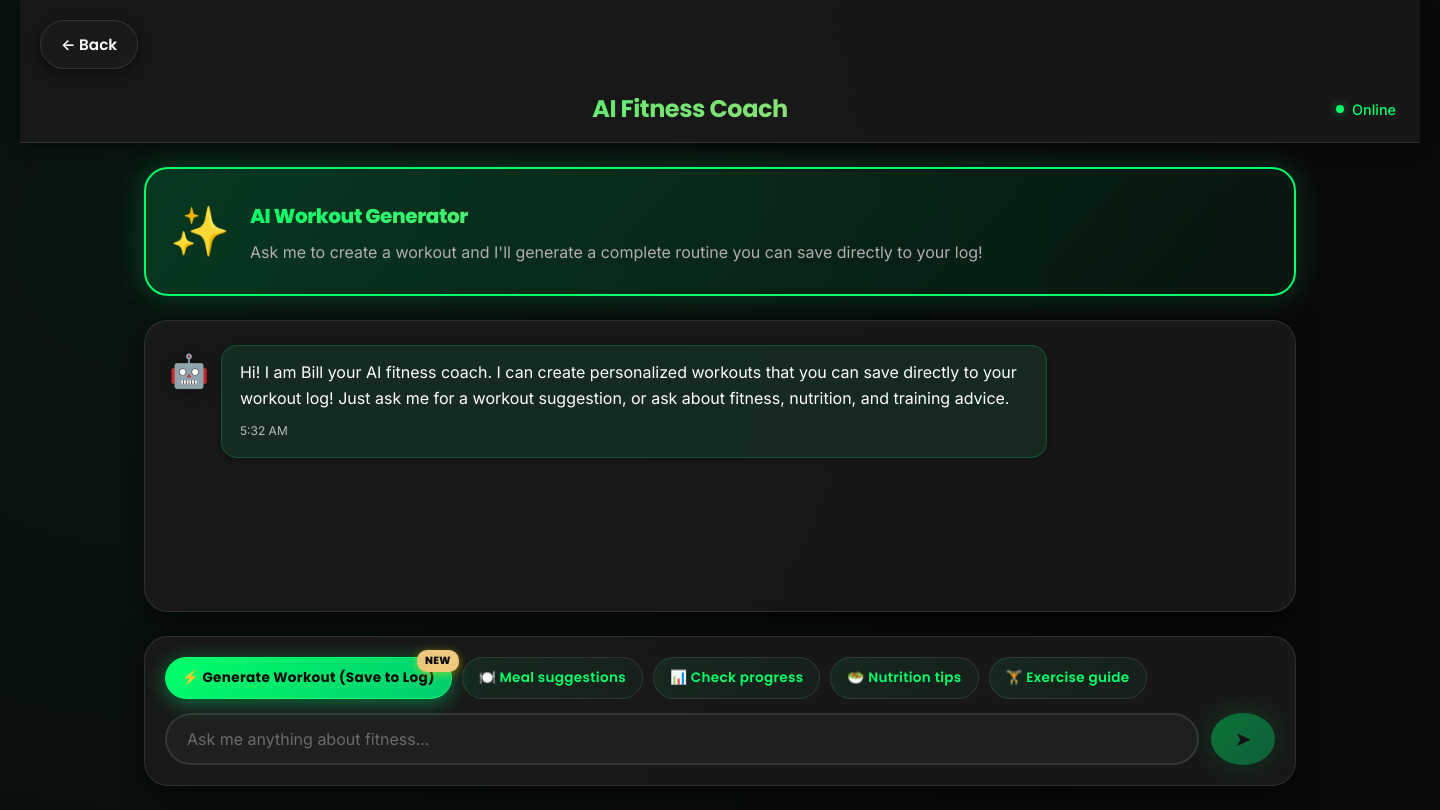
AICoachPage › Chat Functionality › should display user message in chat
Step 1. Type "Hello coach" into the field with placeholder "Ask me anything about fitness..." → (682, 739), box left=165, top=713, right=1199, bottom=765
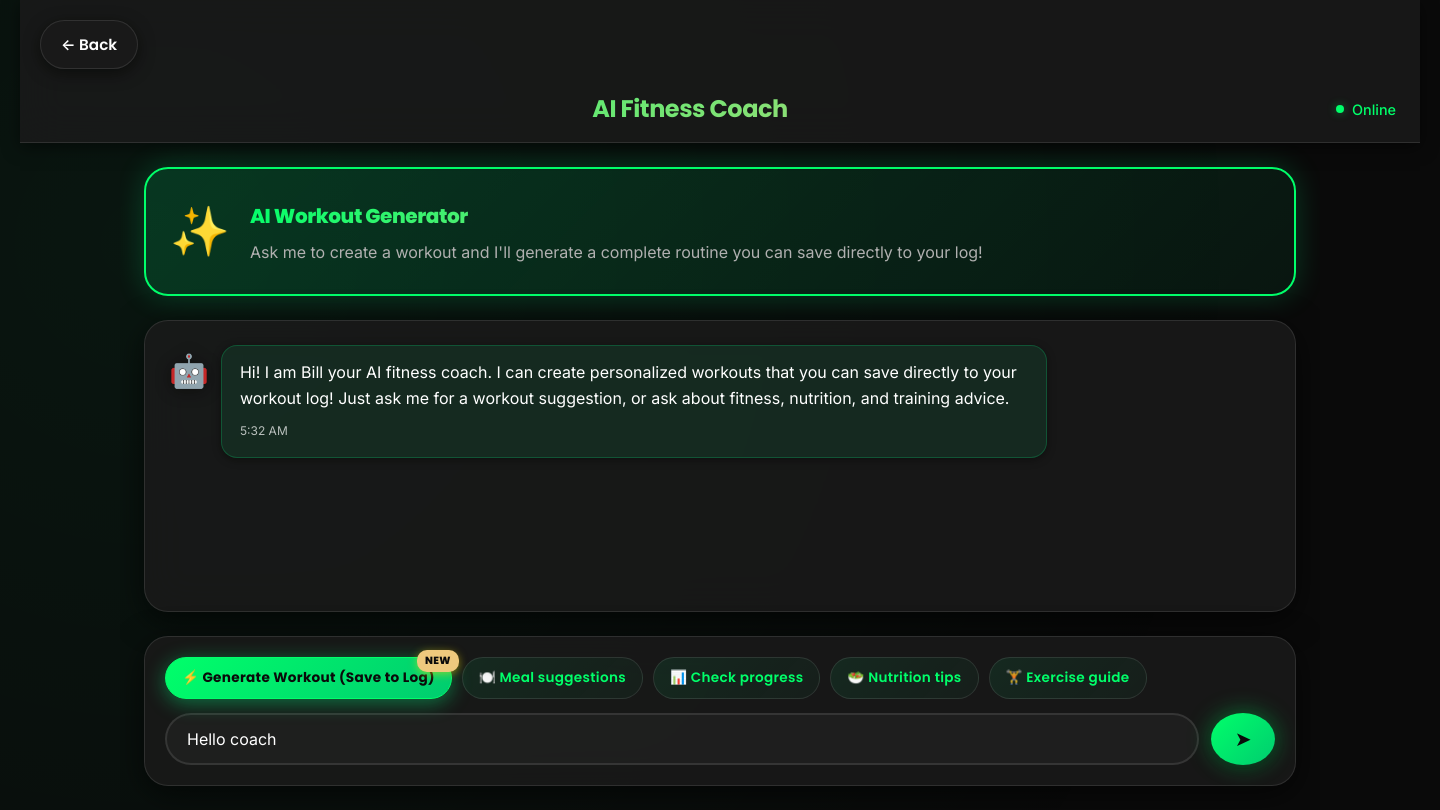
Step 2. Click the button "➤" → click(1243, 739), box left=1211, top=713, right=1275, bottom=765
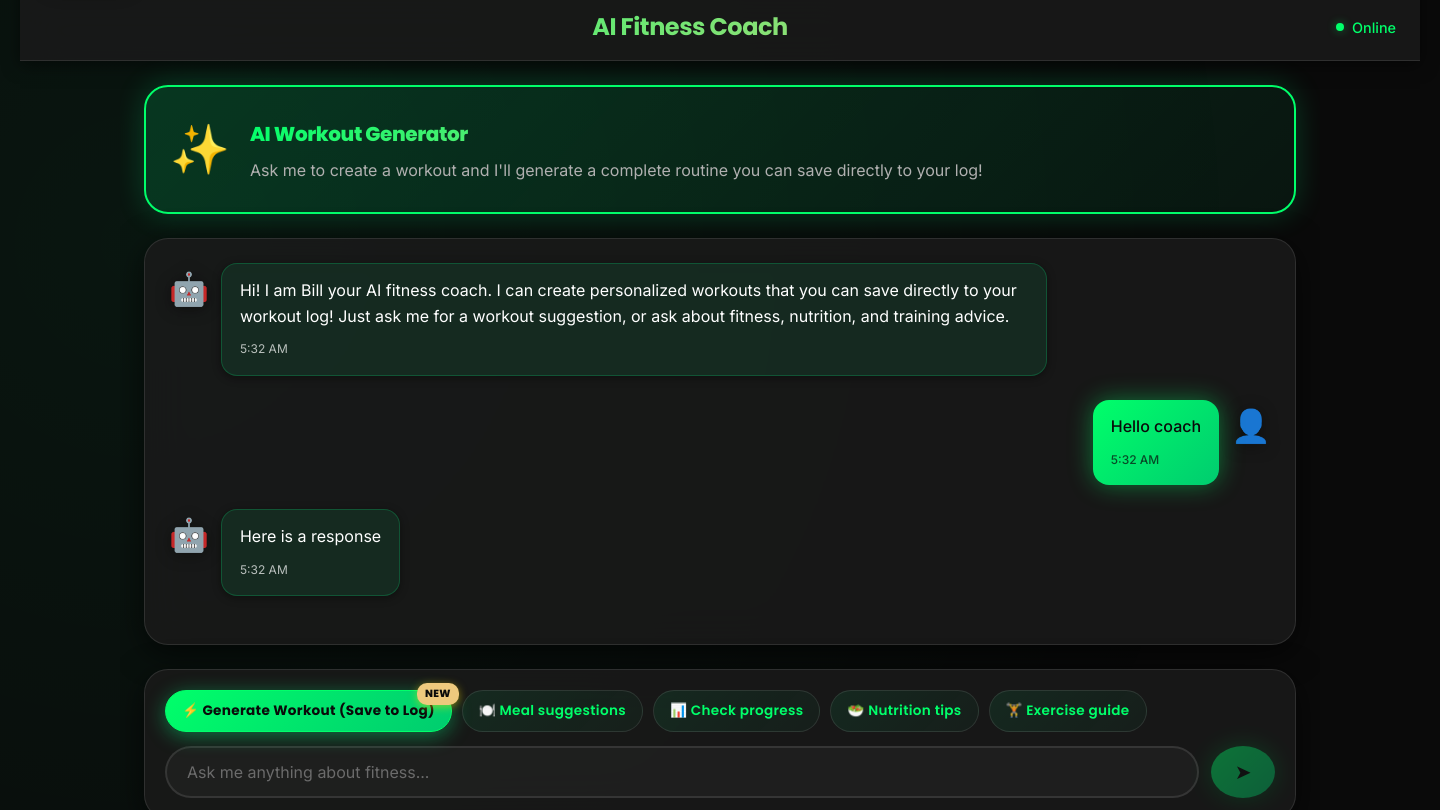
Result: the text "Hello coach" is shown at left=1111, top=414, right=1201, bottom=440
